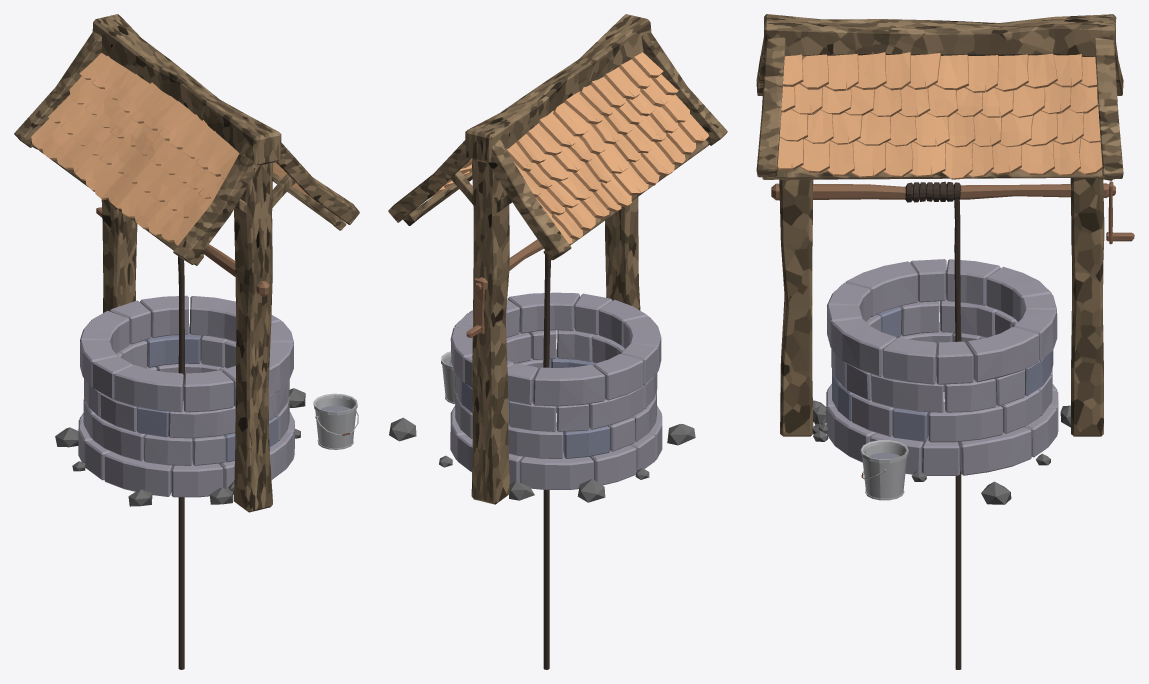
File: well.fbx
3 views of the same model, side by side, from view 1: azimuth 30°, elevation 25°; view 2: azimuth 150°, elevation 25°; view 3: azimuth 270°, elevation 25° (orthographic). The views are drawn at different scales.
Parts seen in each view (by area): view 1: Cube, Cube.009, Plane.047, Cube.001, Cube.013, Cube.011, Bucket, Cube.007; view 2: Cube, Cube.009, Plane.047, Cube.001, Cube.013, Cube.011, Bucket, Cube.007; view 3: Cube, Plane.047, Cube.009, Cube.001, Cube.007, Cube.013, Bucket, Cube.011, Cylinder.
Boxes of the visible parts, x1,y1,x2,y2 form: Cube: [78, 295, 294, 497]; Cube.009: [92, 14, 295, 512]; Plane.047: [31, 53, 313, 245]; Cube.001: [14, 31, 359, 265]; Cube.013: [83, 326, 289, 462]; Cube.011: [178, 256, 184, 669]; Bucket: [313, 393, 357, 449]; Cube.007: [202, 244, 269, 296]; Cube: [450, 292, 662, 489]; Cube.009: [450, 14, 651, 504]; Plane.047: [429, 52, 708, 244]; Cube.001: [388, 32, 727, 260]; Cube.013: [461, 349, 610, 458]; Cube.011: [543, 255, 550, 669]; Bucket: [441, 351, 455, 404]; Cube.007: [475, 239, 543, 291]; Cube: [826, 259, 1058, 476]; Plane.047: [777, 52, 1102, 179]; Cube.009: [764, 14, 1116, 436]; Cube.001: [756, 37, 1123, 180]; Cube.007: [771, 183, 1115, 200]; Cube.013: [832, 306, 1053, 441]; Bucket: [860, 440, 908, 500]; Cube.011: [954, 198, 961, 669]; Cylinder: [905, 181, 961, 202].
Bounding box in the file's own units: 6.66 × 15.41 × 8.16.
Materials: 14 (5 with a texture image).
